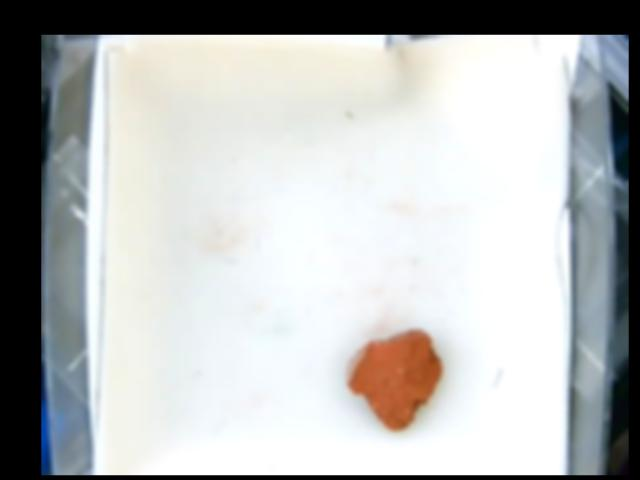Brisk: (346, 326, 440, 430)
